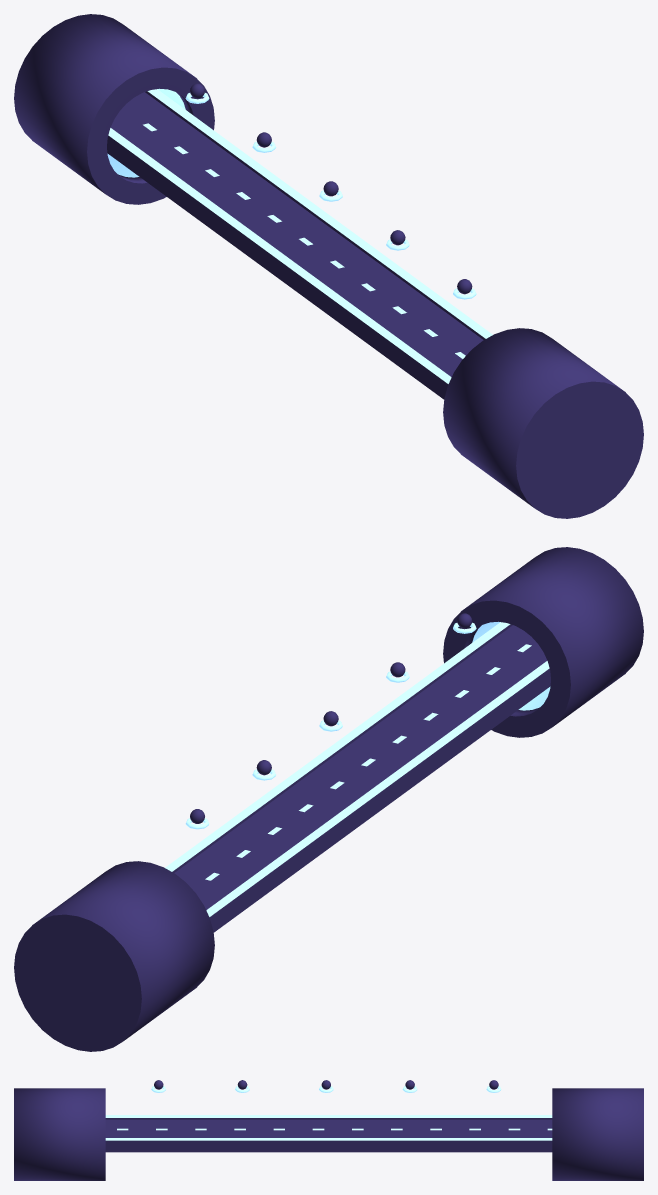
The model's file is autopista.fbx.
The picture shows the model from 3 angles, top to bottom: view 1: azimuth 30°, elevation 25°; view 2: azimuth 150°, elevation 25°; view 3: azimuth 270°, elevation 25°; orthographic projection. The views are drawn at different scales.
Visible parts, largest first — view 1: Cylinder, Cube, Torus; view 2: Cylinder, Cube, Torus; view 3: Cylinder, Cube, Torus, Plane.
Boxes of the visible parts, x1,y1,x2,y2 form: Cylinder: [14, 14, 643, 518]; Cube: [107, 89, 492, 399]; Torus: [185, 83, 476, 299]; Cylinder: [14, 547, 643, 1051]; Cube: [165, 622, 550, 932]; Torus: [185, 613, 476, 829]; Cylinder: [14, 1088, 643, 1180]; Cube: [105, 1115, 552, 1152]; Torus: [151, 1080, 501, 1092]; Plane: [117, 1128, 552, 1130].
Size of the model in its own units: 304 by 347 by 2065.
